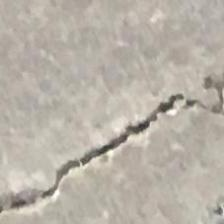Crack: (0, 67, 224, 217)
